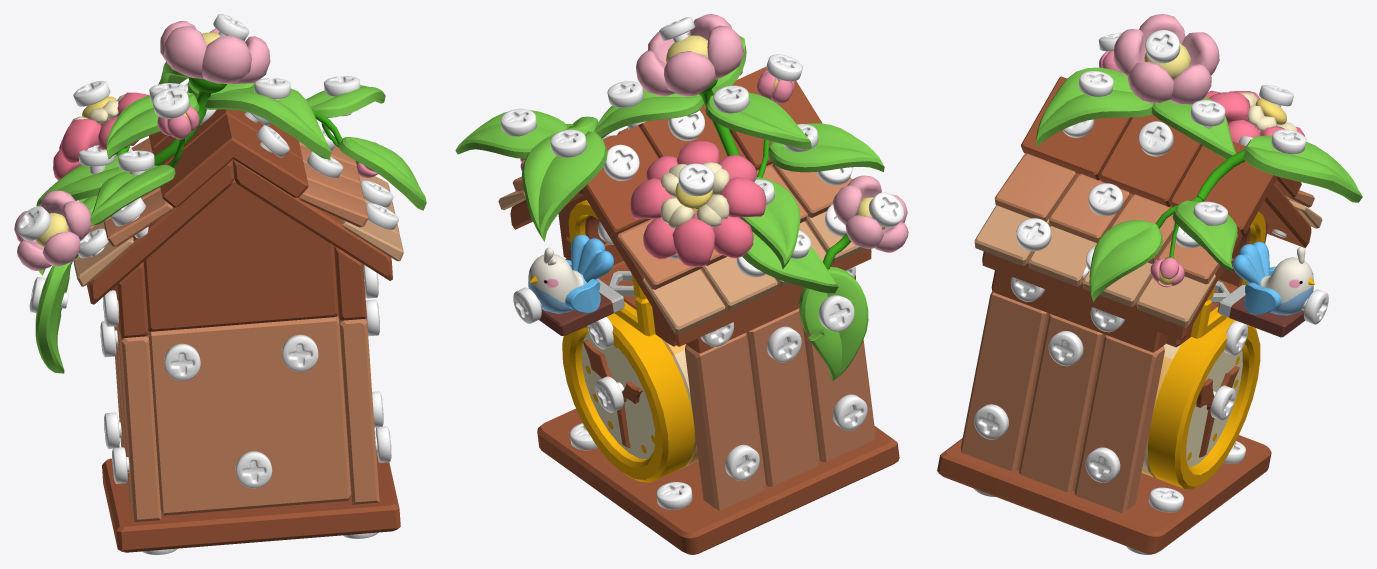
Rendered from Clocks.fbx.
3 renders of one model, left to right at view 1: azimuth 30°, elevation 25°; view 2: azimuth 150°, elevation 25°; view 3: azimuth 270°, elevation 25°, orthographic. The views are drawn at different scales.
Parts seen in each view (by area): view 1: Clocks_001, Clocks_021, Screw (×22), Clocks_049, Clocks_007, Clocks_036, Clocks_003, Clocks_019, Clocks_026, Clocks_039, Clocks_031, Clocks_030 (+14 smaller); view 2: Clocks_007, Screw (×18), Clocks_049, Clocks_009, Clocks_042, Clocks_036, Clocks_019, Clocks_045, Clocks_040, Clocks_032, Clocks_028, Clocks_038 (+17 smaller); view 3: Clocks_026, Screw (×18), Clocks_049, Clocks_009, Clocks_039, Clocks_019, Clocks_005, Clocks_027, Clocks_028, Clocks_006, Clocks_040, Clocks_032 (+12 smaller).
Part boxes in pixels (x1,y1,x2,y2): Clocks_001: (148, 316, 350, 515); Clocks_021: (143, 179, 338, 331); Screw (×22): (16, 14, 398, 488); Clocks_049: (102, 453, 400, 552); Clocks_007: (114, 325, 161, 521); Clocks_036: (14, 190, 91, 373); Clocks_003: (160, 114, 308, 207); Clocks_019: (154, 21, 270, 165); Clocks_026: (338, 315, 379, 504); Clocks_039: (306, 85, 426, 210); Clocks_031: (233, 159, 392, 280); Clocks_030: (87, 160, 234, 304); Clocks_007: (685, 308, 875, 510); Screw (×18): (500, 17, 904, 509); Clocks_049: (537, 408, 899, 554); Clocks_009: (562, 313, 694, 482); Clocks_042: (630, 141, 766, 267); Clocks_036: (799, 175, 908, 380); Clocks_019: (636, 14, 744, 156); Clocks_045: (642, 256, 777, 334); Clocks_040: (522, 127, 607, 241); Clocks_032: (528, 235, 613, 313); Clocks_028: (581, 125, 658, 236); Clocks_038: (768, 123, 884, 172); Clocks_026: (960, 292, 1164, 512); Screw (×18): (974, 30, 1328, 512); Clocks_049: (937, 435, 1271, 554); Clocks_009: (1147, 317, 1260, 489); Clocks_039: (1089, 197, 1237, 302); Clocks_019: (1113, 14, 1219, 104); Clocks_005: (994, 153, 1130, 242); Clocks_027: (1099, 114, 1201, 206); Clocks_028: (1170, 141, 1301, 235); Clocks_006: (974, 205, 1096, 286); Clocks_040: (1197, 135, 1362, 202); Clocks_032: (1232, 241, 1314, 315).
Size of the model in its own units: 9.84 by 11.5 by 9.32.
3 materials, 2 textured.
